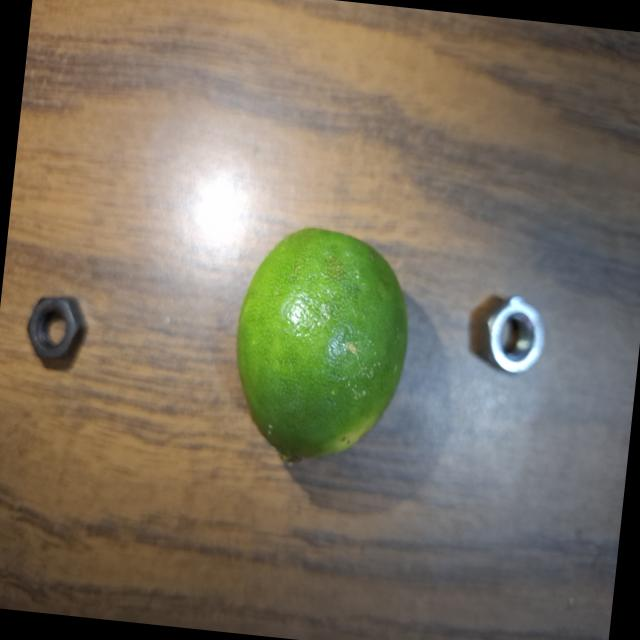limon: (220, 217, 427, 488)
milimetrico: (5, 274, 116, 388)
tuerca: (466, 282, 573, 415)
